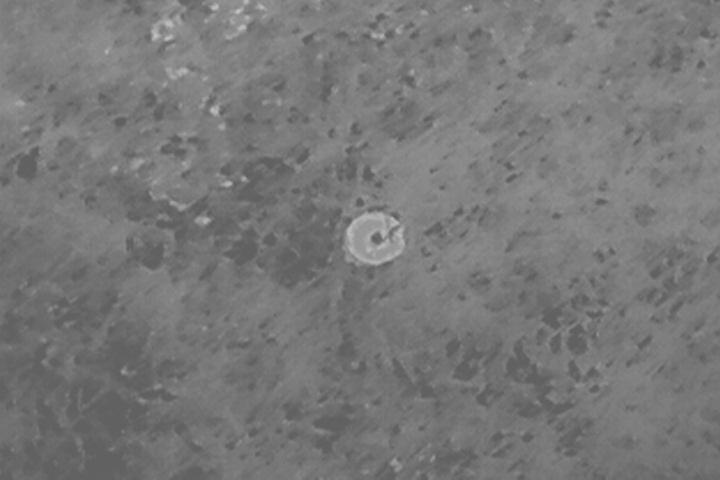landmine: (344, 210, 409, 267)
